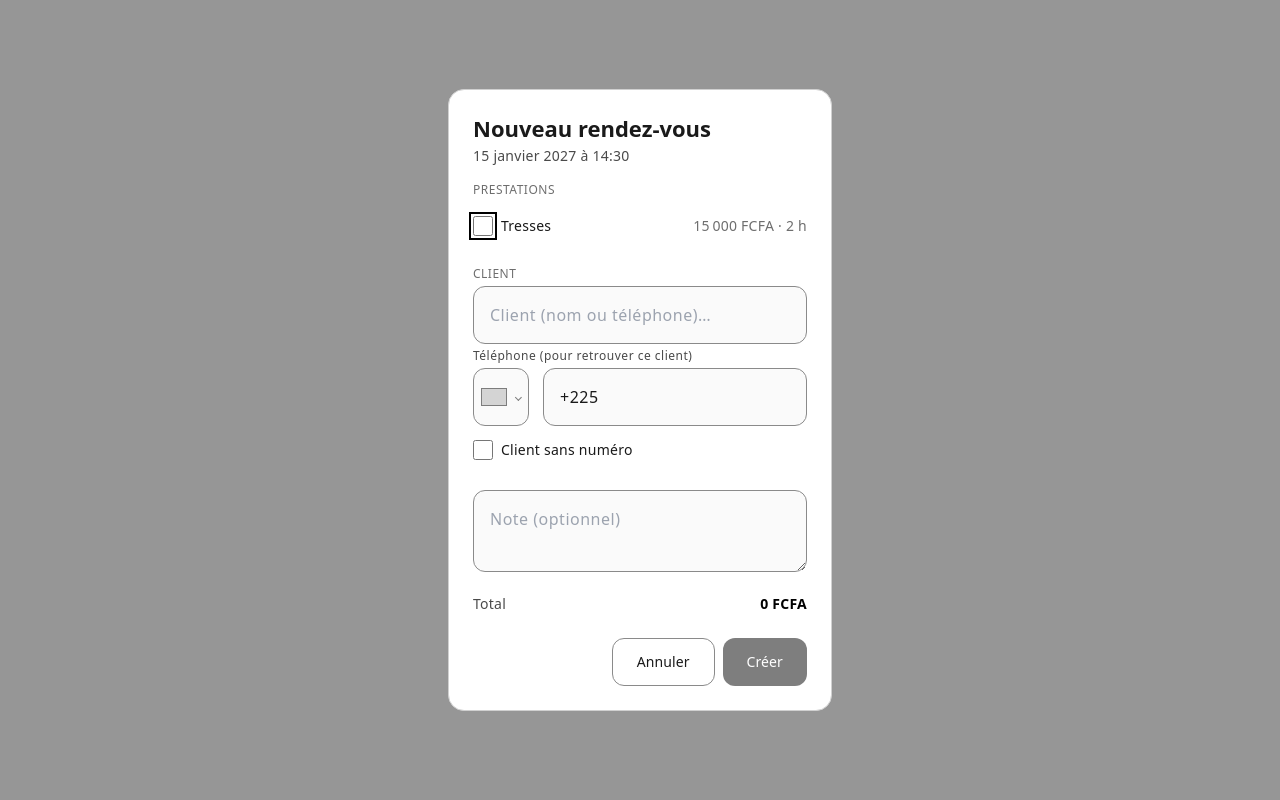
Test: ManualBookingDialog — the phone crosses as E.164 › a +225 number short of 10 digits says how many — nothing is sent
Type "Awa" into the field named "Rechercher ou nommer le client" at (640, 315), box x1=473 y1=286 x2=807 y2=344
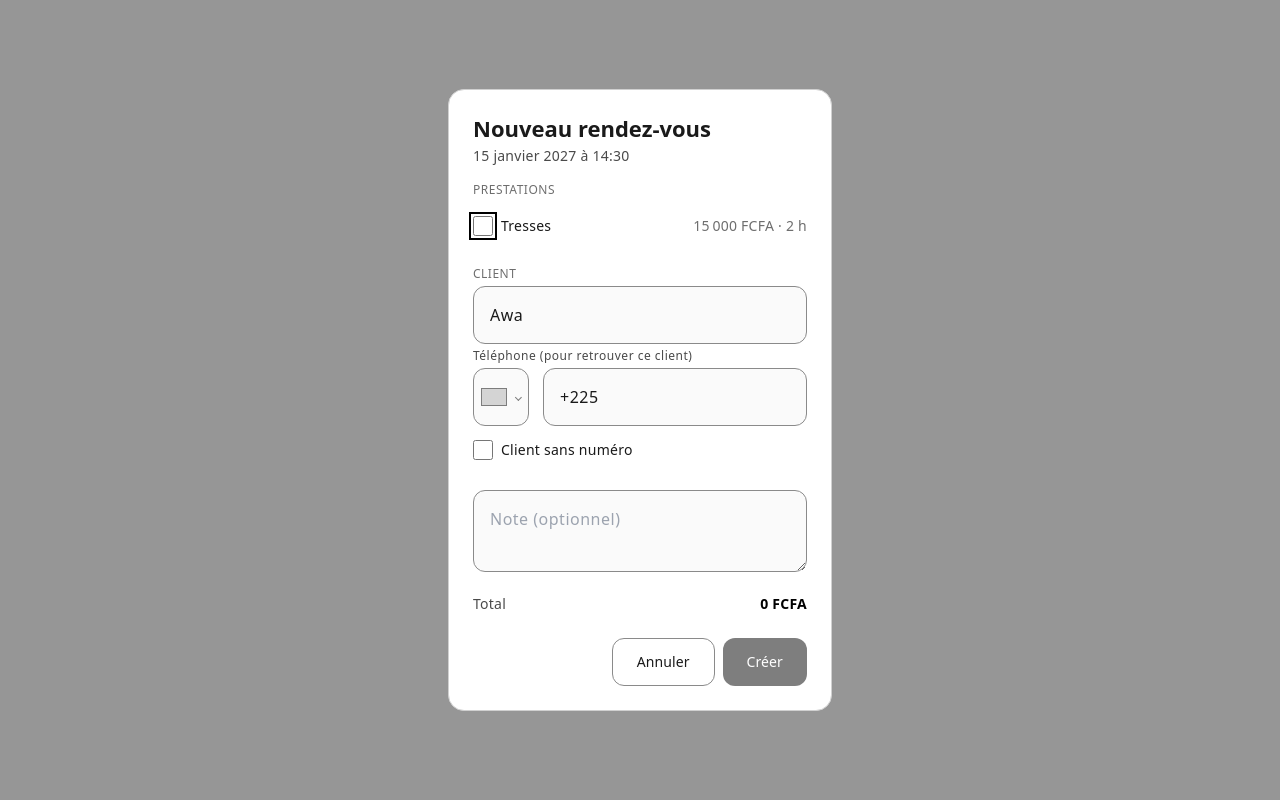
Click the checkbox labelled "Tresses 15 000 FCFA · 2 h" at (483, 226), box x1=473 y1=216 x2=493 y2=236
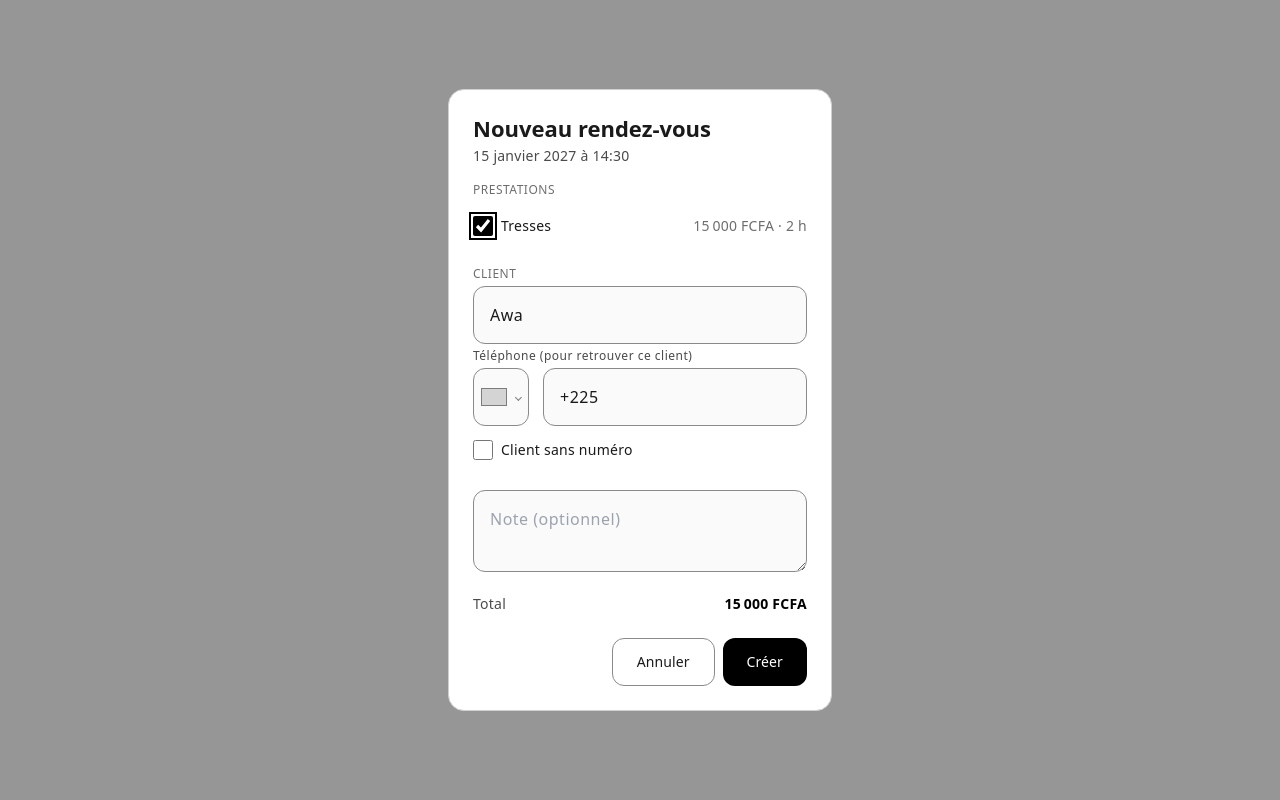
Replace the text in the field labelled "Téléphone (pour retrouver ce client)" with "+2250700000" at (675, 397), box x1=543 y1=368 x2=807 y2=426
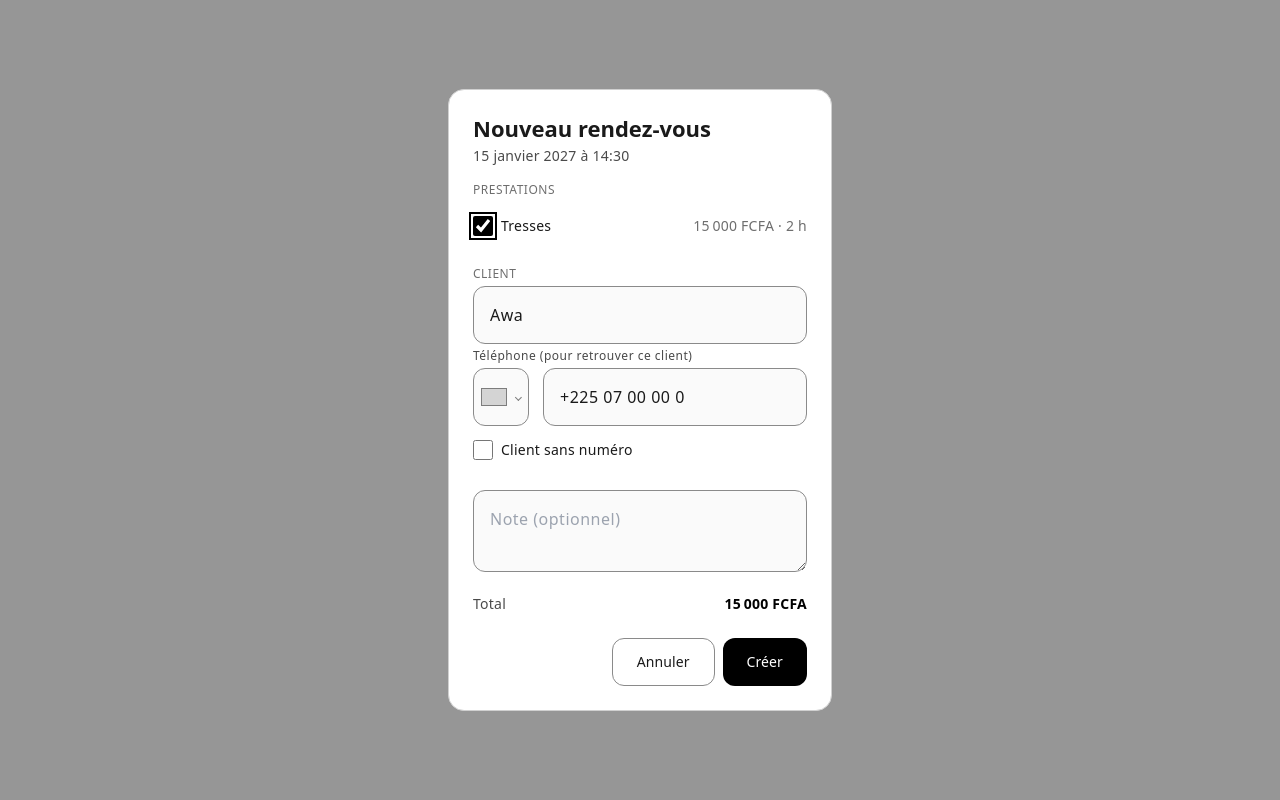
Click the button "Créer" at (765, 662), box x1=723 y1=638 x2=807 y2=686
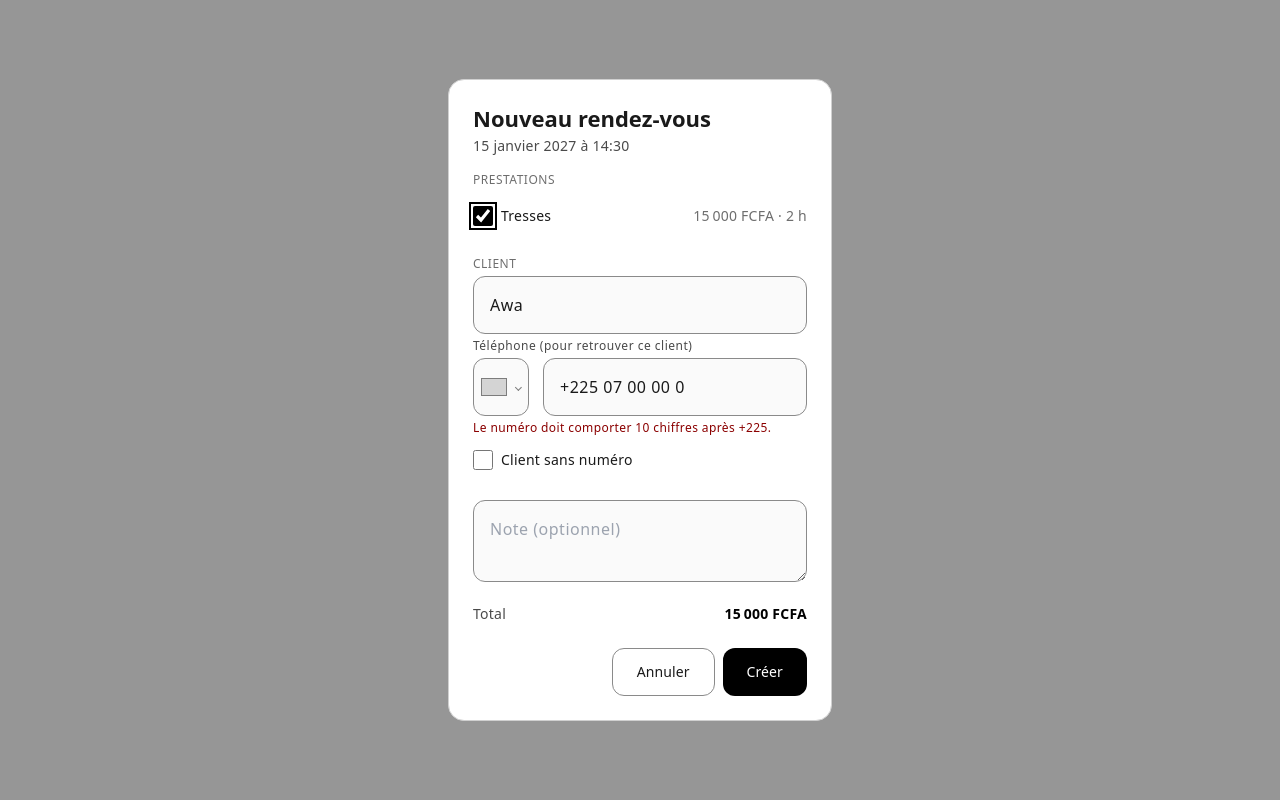
Expected: the text "Le numéro doit comporter 10 chiffres après +225." is shown, x1=473 y1=420 x2=807 y2=436
